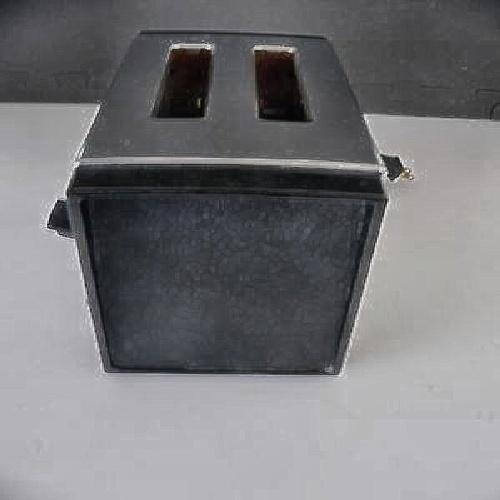toaster: (81, 24, 390, 386)
